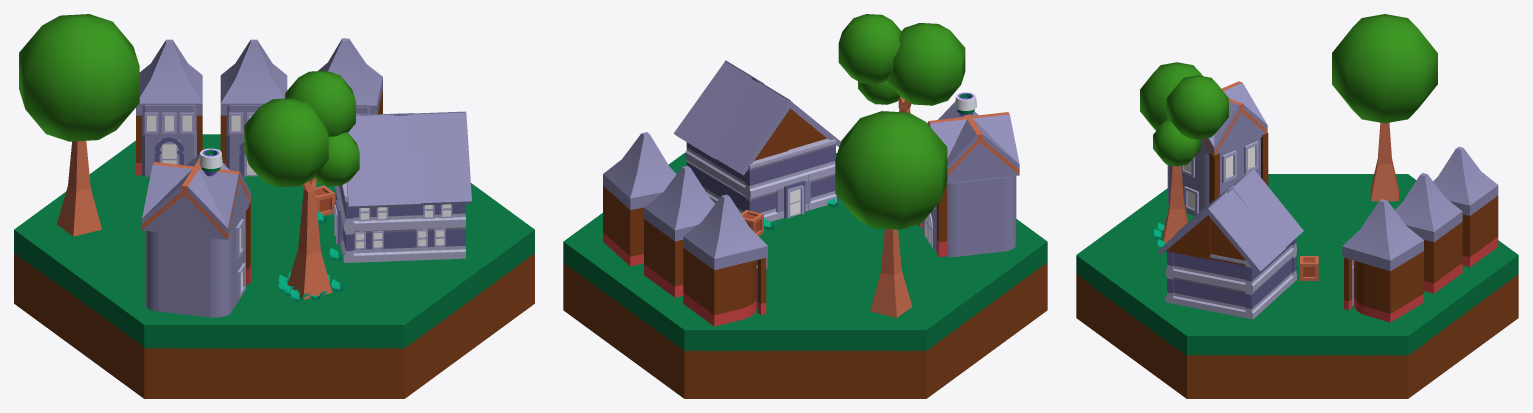
The model's file is HexTown-var1.fbx.
3 views of the same model, side by side, from view 1: azimuth 30°, elevation 25°; view 2: azimuth 150°, elevation 25°; view 3: azimuth 270°, elevation 25° (orthographic). The views are drawn at different scales.
Visible parts, largest first — view 1: mergedBlocks; view 2: mergedBlocks; view 3: mergedBlocks.
Part boxes in pixels (x1,y1,x2,y2): mergedBlocks: (14,14,534,398); mergedBlocks: (563,14,1047,398); mergedBlocks: (1076,14,1518,398).
Size of the model in its own units: 20.41 by 14.02 by 23.42.
